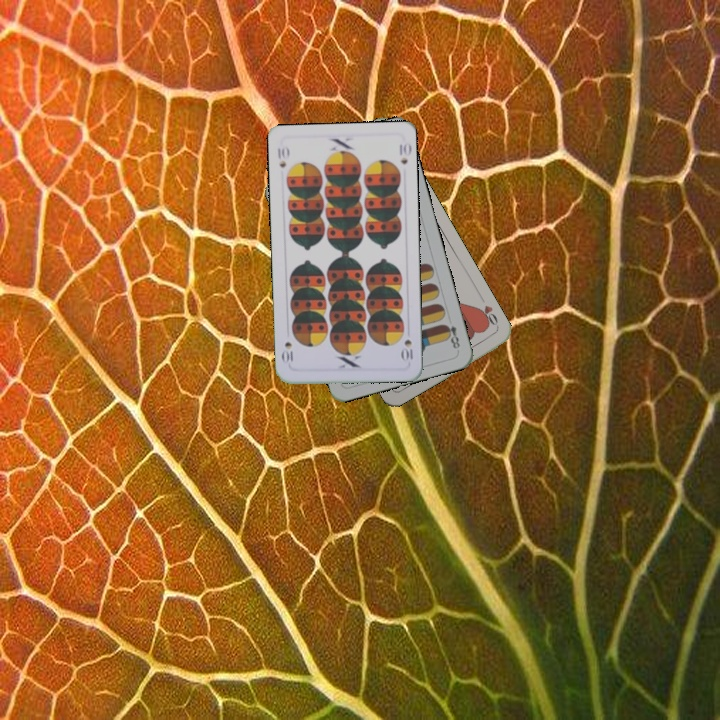E8: (440, 320, 462, 351)
HO: (474, 293, 501, 330)
S10: (398, 336, 416, 365), (274, 142, 291, 171)
